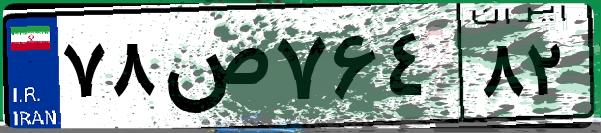2: (525, 38, 570, 115)
4: (385, 28, 445, 110)
6: (330, 28, 385, 110)
7: (270, 28, 330, 110), (57, 26, 110, 100)
8: (475, 38, 525, 113), (110, 28, 158, 98)
ص: (158, 20, 270, 120)
